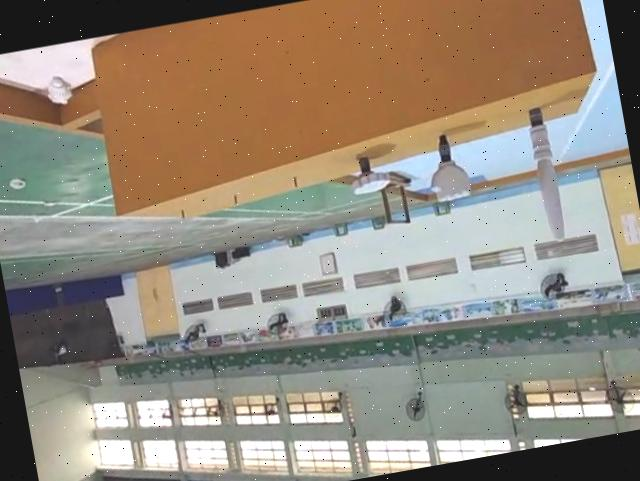Fist: (424, 130, 472, 204)
Hand: (343, 151, 389, 198), (345, 152, 389, 199)
Sph: (521, 103, 570, 239)
